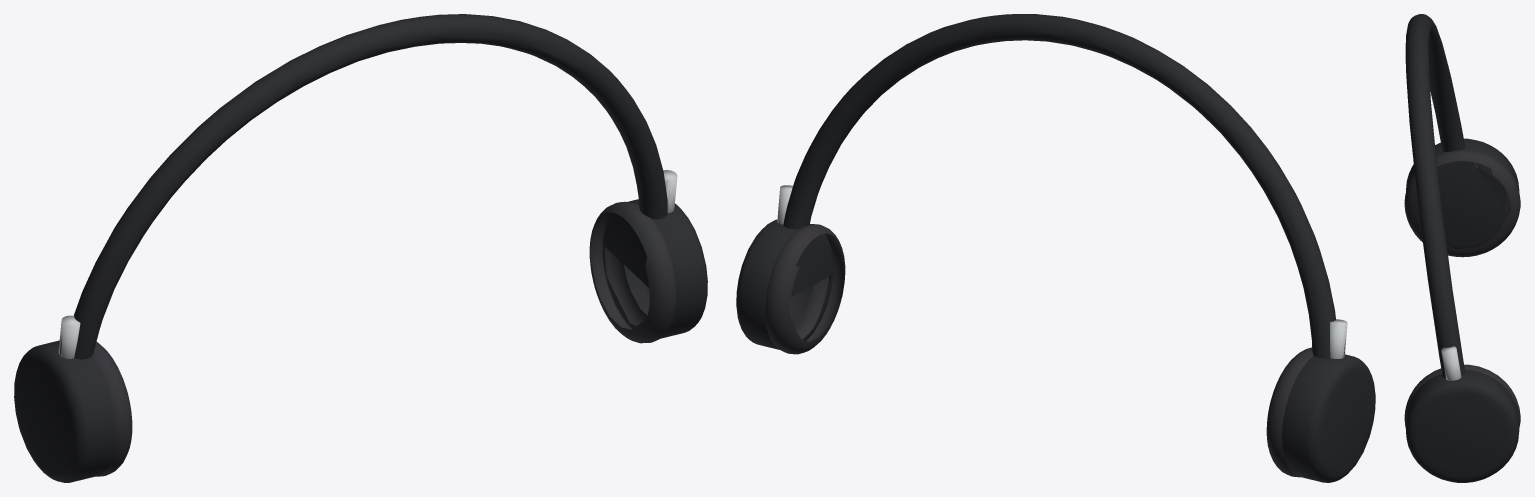
Rendered from wear-headphones.glb.
The picture shows the model from 3 angles, left to right: view 1: azimuth 30°, elevation 25°; view 2: azimuth 150°, elevation 25°; view 3: azimuth 270°, elevation 25°; orthographic projection. The views are drawn at different scales.
Parts seen in each view (by area): view 1: headphones; view 2: headphones; view 3: headphones.
Boxes of the visible parts, box(x1,y1,x2,y2) form: headphones: box(14, 14, 707, 482); headphones: box(736, 14, 1375, 482); headphones: box(1404, 14, 1520, 482).
Size of the model in its own units: 2.28 by 1.38 by 0.4499.
1 material, 1 textured.
